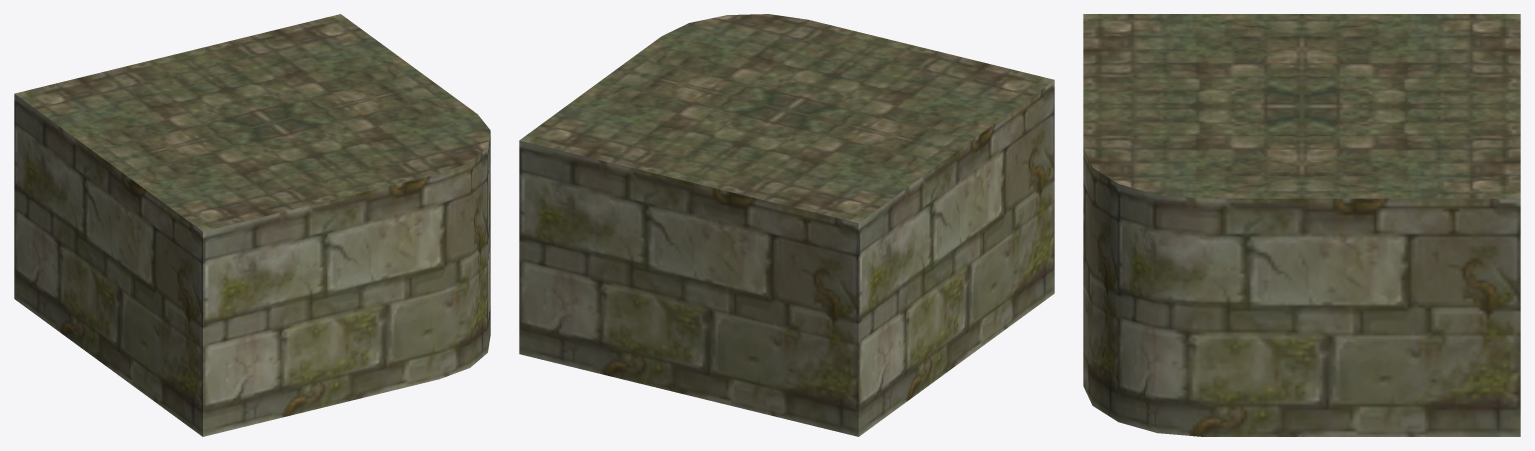
The model's file is bottom-floor-corner-02.fbx.
3 renders of one model, left to right at view 1: azimuth 30°, elevation 25°; view 2: azimuth 150°, elevation 25°; view 3: azimuth 270°, elevation 25°, orthographic. The views are drawn at different scales.
Visible parts, largest first — view 1: Plane.027; view 2: Plane.027; view 3: Plane.027.
Part boxes in pixels (x1,y1,x2,y2): Plane.027: [14, 14, 490, 436]; Plane.027: [519, 14, 1054, 436]; Plane.027: [1083, 14, 1520, 436].
Size of the model in its own units: 1 by 0.6014 by 1.
